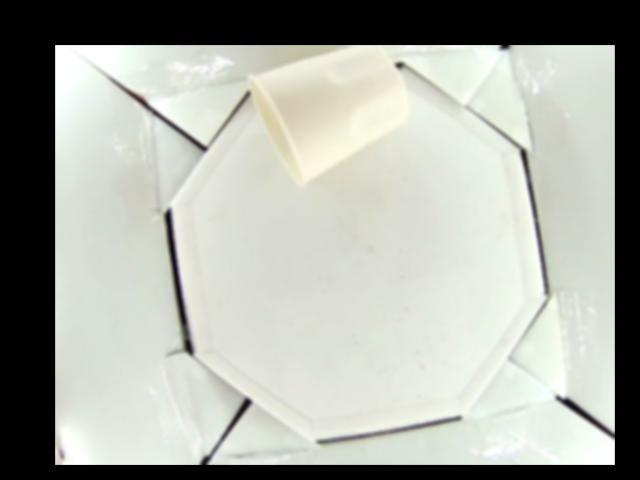Cup: (245, 46, 411, 185)
